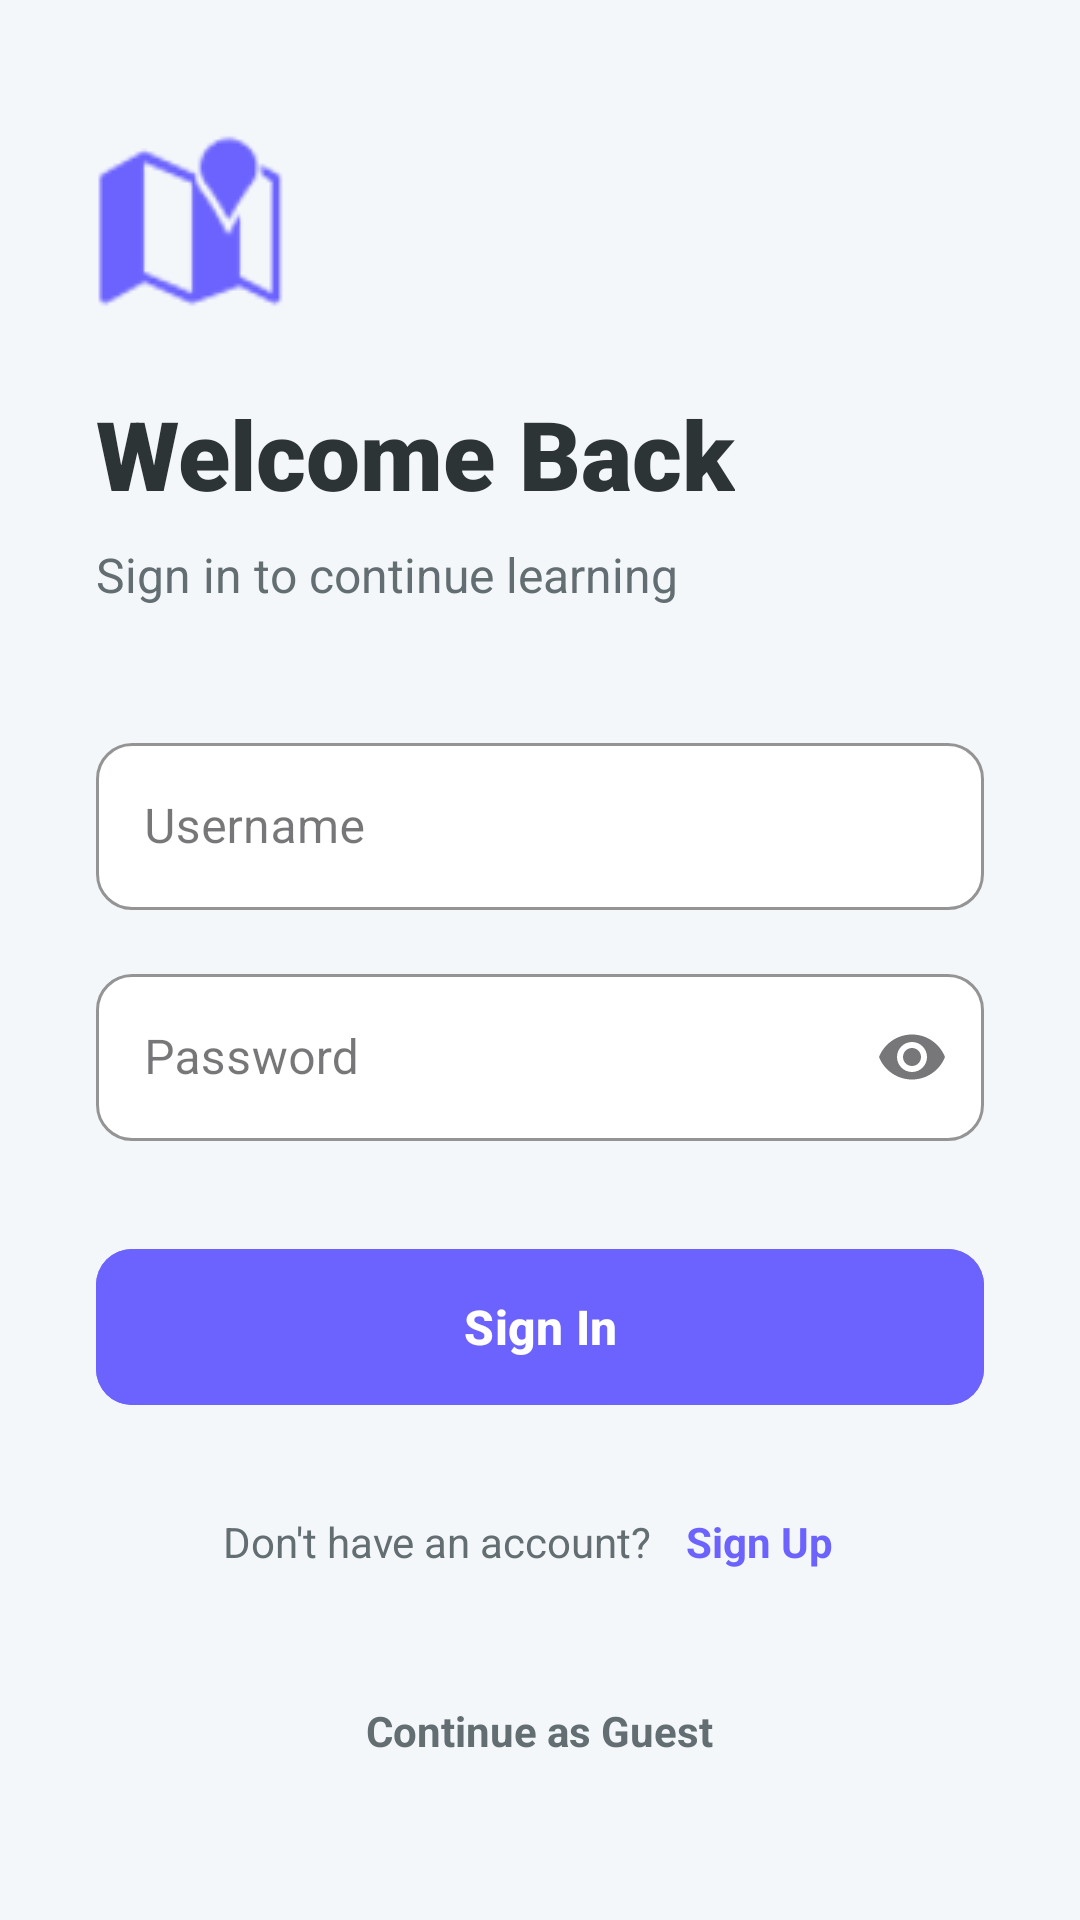

Icon bounding boxes for this 1080x1920 phone screenshot, format detection(x1, y1, x2, y2):
map: detection(98, 136, 282, 305)
